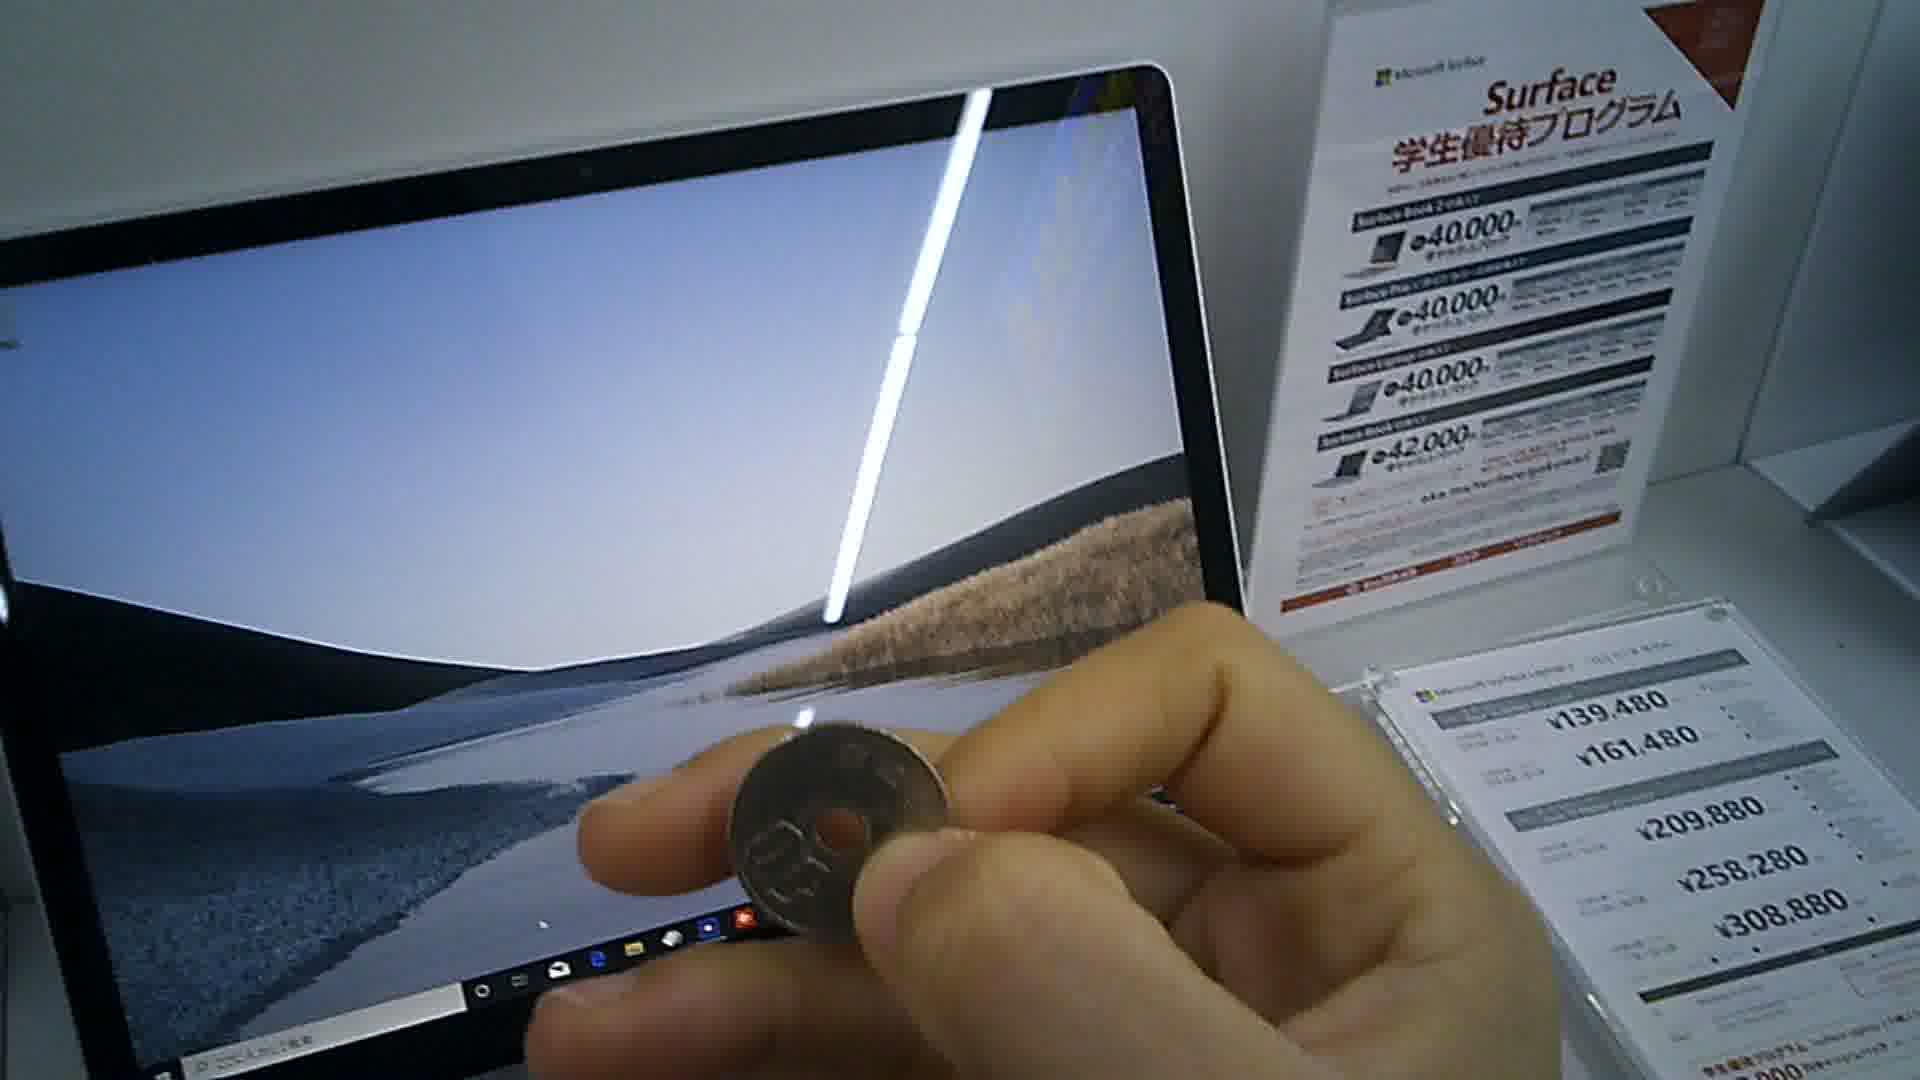50 Yen: (727, 717, 963, 952)
